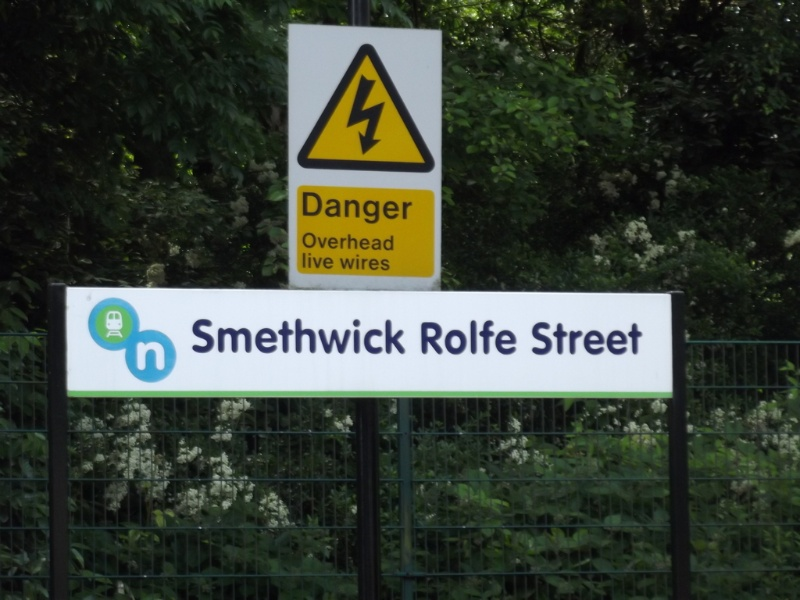warning_overhad_livewire: (289, 31, 459, 288)
